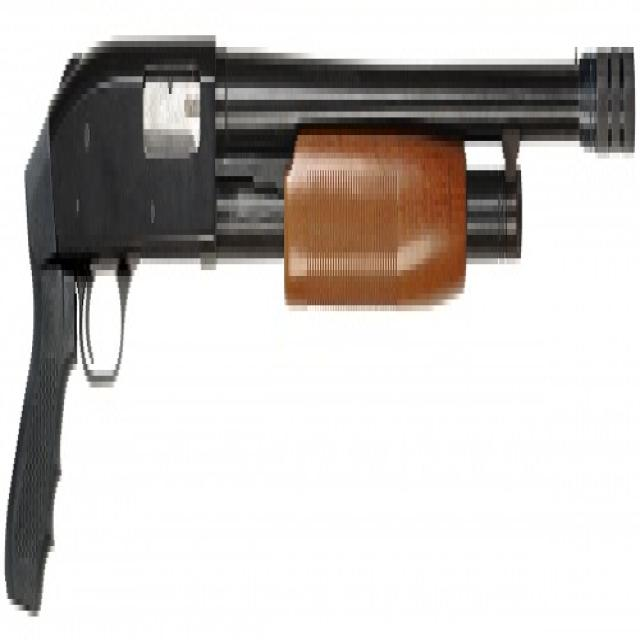rifle: (2, 7, 640, 617)
